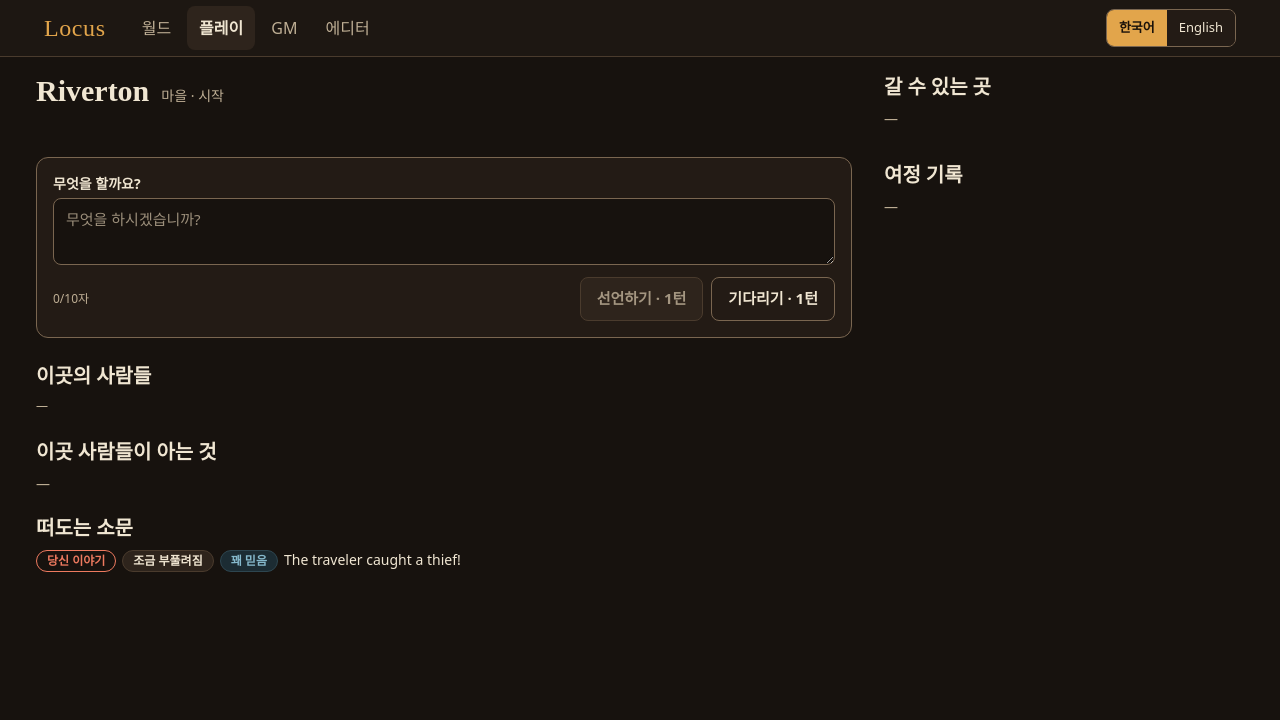
Test case: PlayPage with declarations › a 400 keeps the text and shows the error; a 409 keeps the text and notifies
In the text box with test id "declare-input": {"x": 444, "y": 231} [53,198,835,265], type "x"
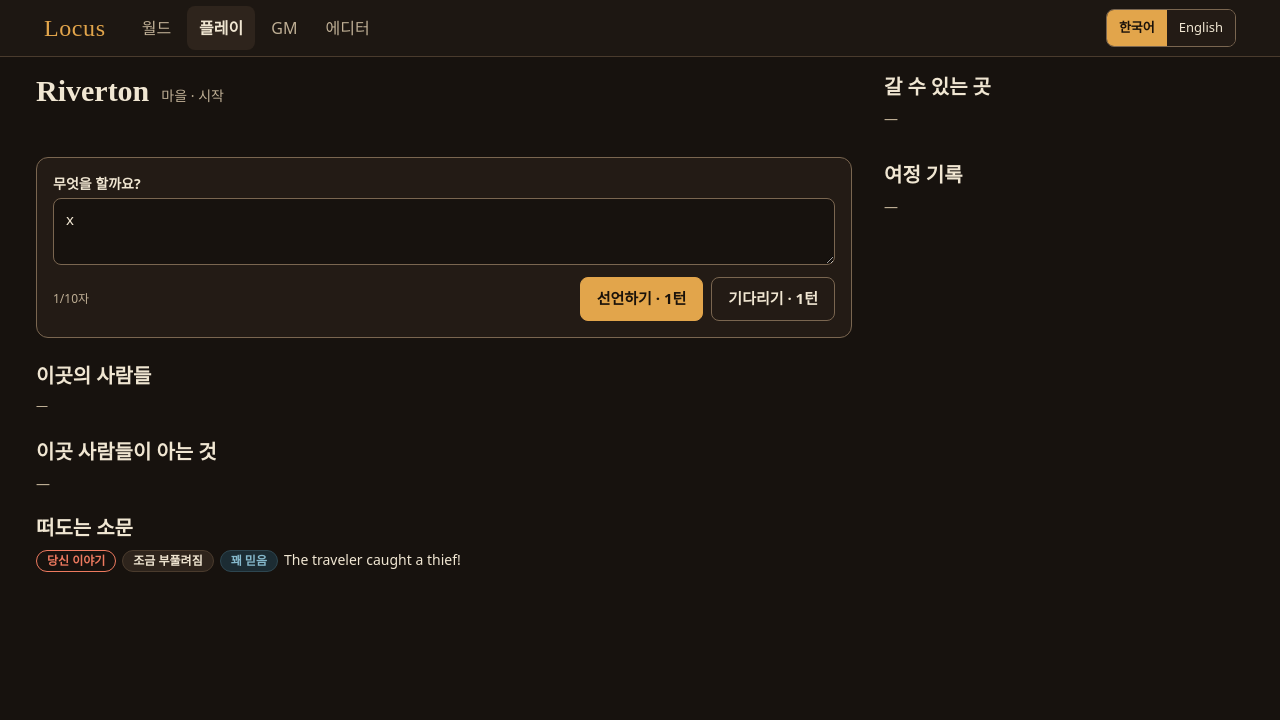
Click the button with test id "declare-btn": {"x": 642, "y": 299} [580,277,703,321]
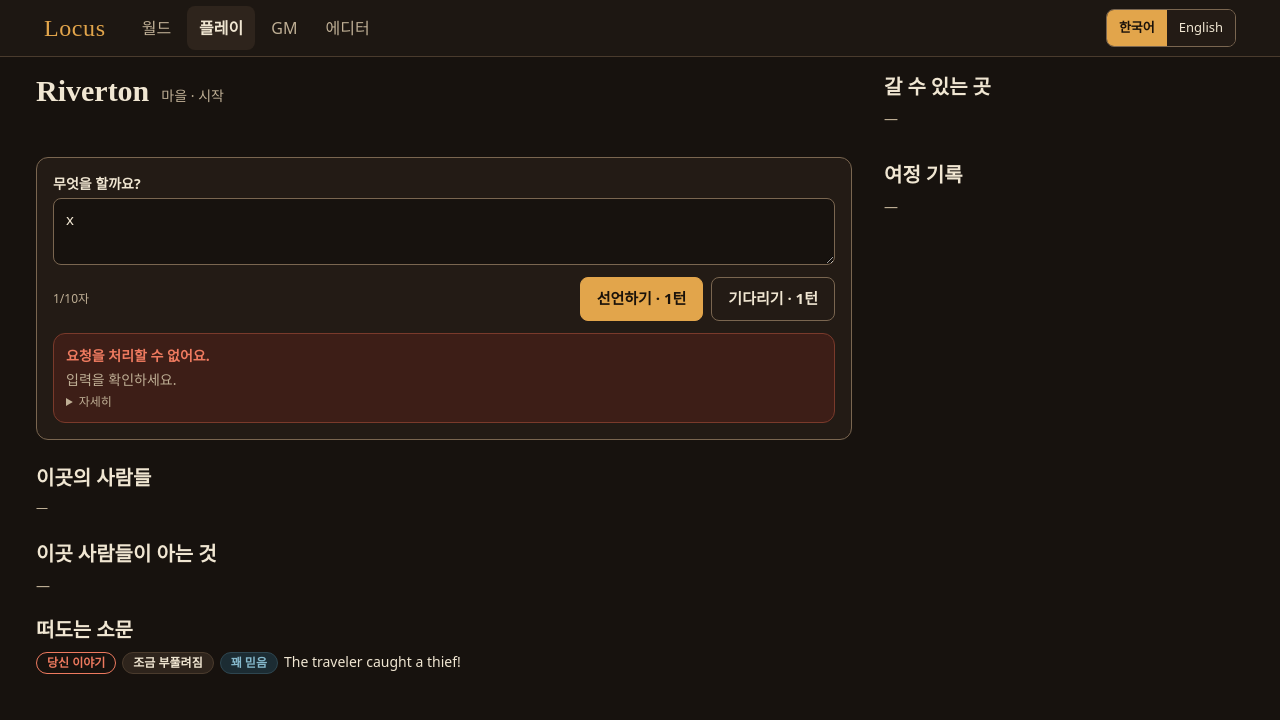
Expected: the element with test id "action-error" shows "400", [66,409,112,522]
Click the button with test id "declare-btn": {"x": 642, "y": 299} [580,277,703,321]
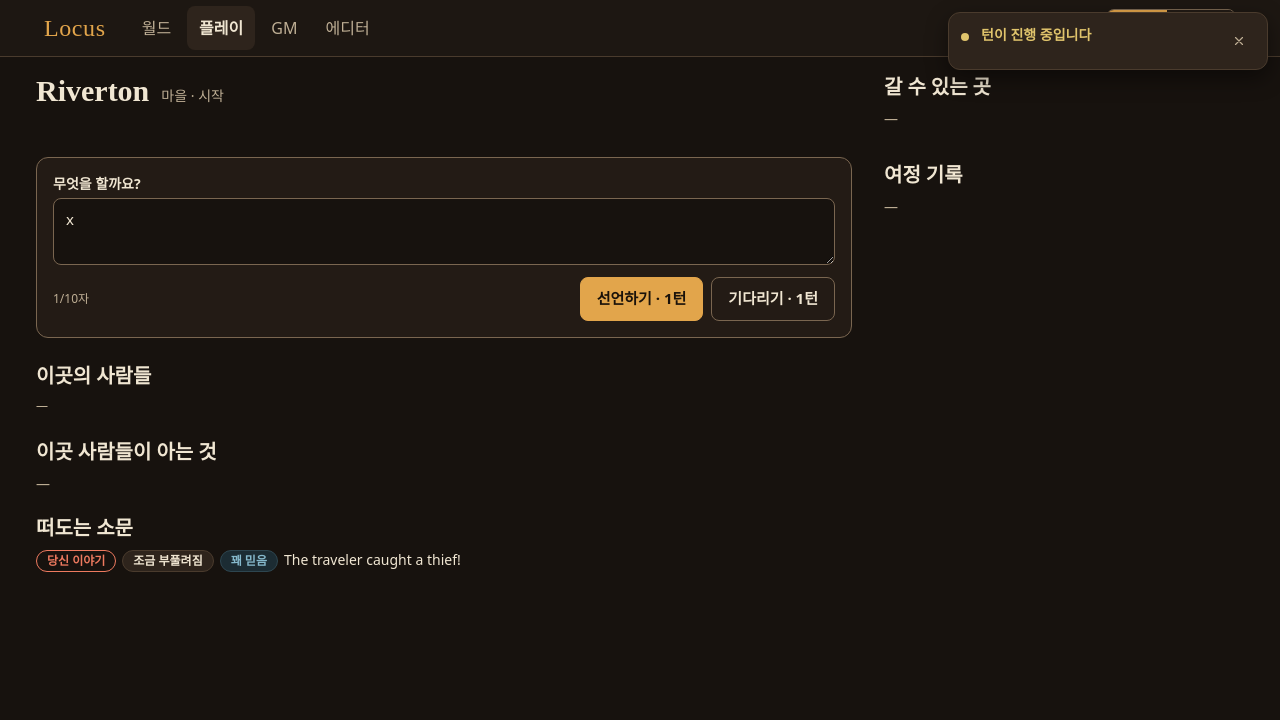
Expected: the element with test id "notification-center" reads "턴이 진행 중입니다", [981,25,1091,44]
